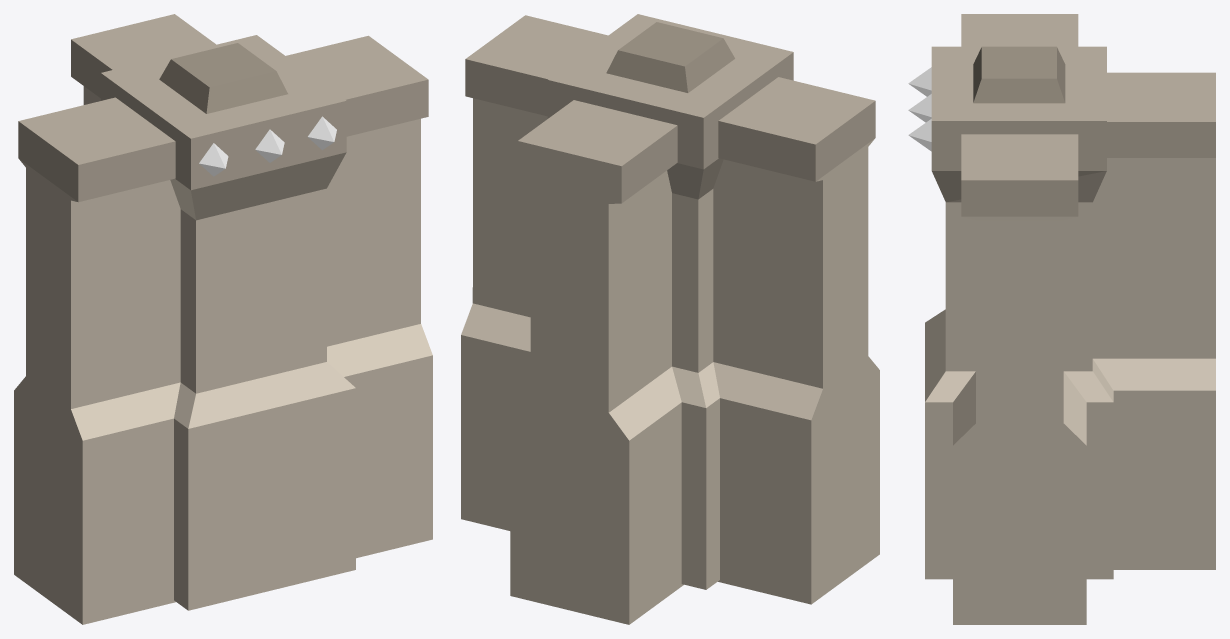
Rendered from Wall_T.DAE.
3 views of the same model, side by side, from view 1: azimuth 30°, elevation 25°; view 2: azimuth 150°, elevation 25°; view 3: azimuth 270°, elevation 25° (orthographic). The views are drawn at different scales.
Visible parts, largest first — view 1: Wall_T; view 2: Wall_T; view 3: Wall_T.
Boxes of the visible parts, x1,y1,x2,y2 form: Wall_T: (14, 14, 432, 624); Wall_T: (461, 14, 879, 624); Wall_T: (908, 14, 1215, 624).
Bounding box in the file's own units: 1 × 1.34 × 0.7816.
